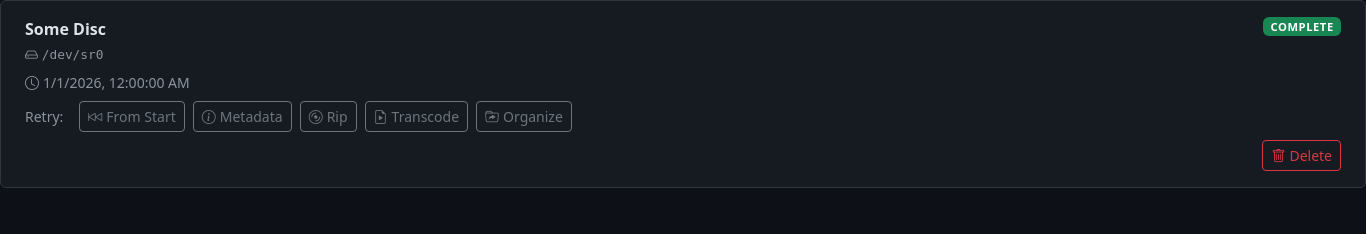
Test: JobCard › shows an error message when deleteJob rejects
Click the button "Delete".
click(1302, 156)  # box [1262, 140, 1341, 171]
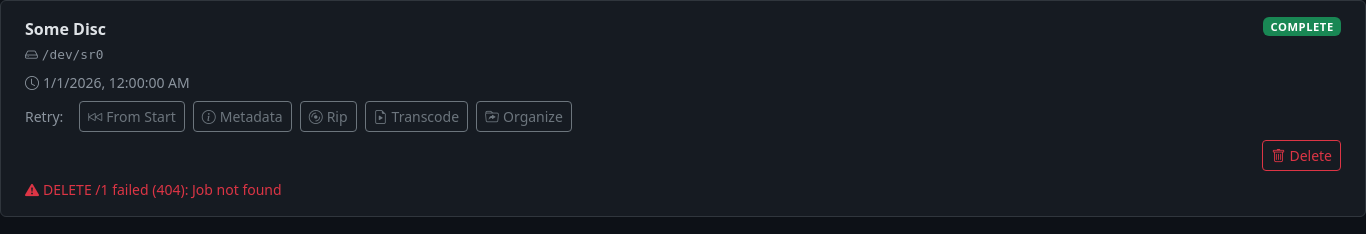
Now the text "DELETE /1 failed (404): Job not found" is shown, box [25, 180, 282, 199]
